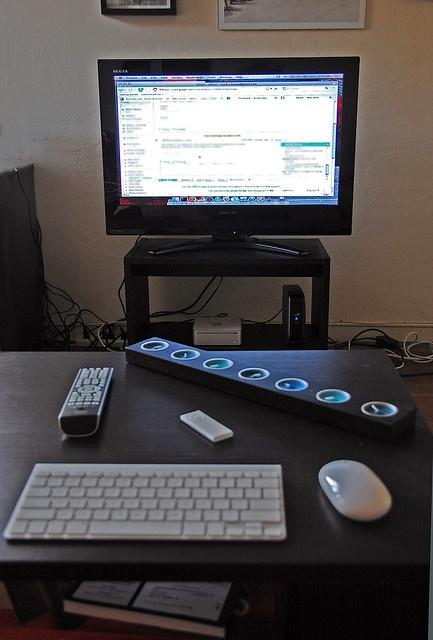AIO PC-Monitor-TV: (96, 54, 360, 238)
Meja: (121, 237, 331, 351)
